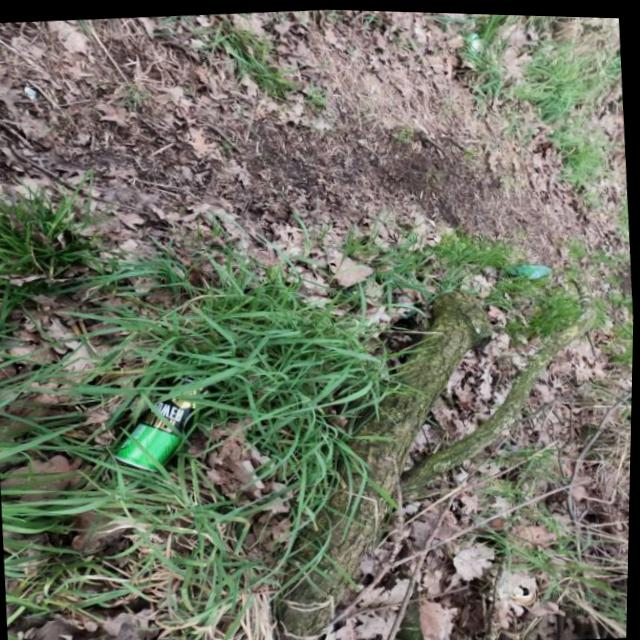Can-Metal: (112, 355, 226, 478)
